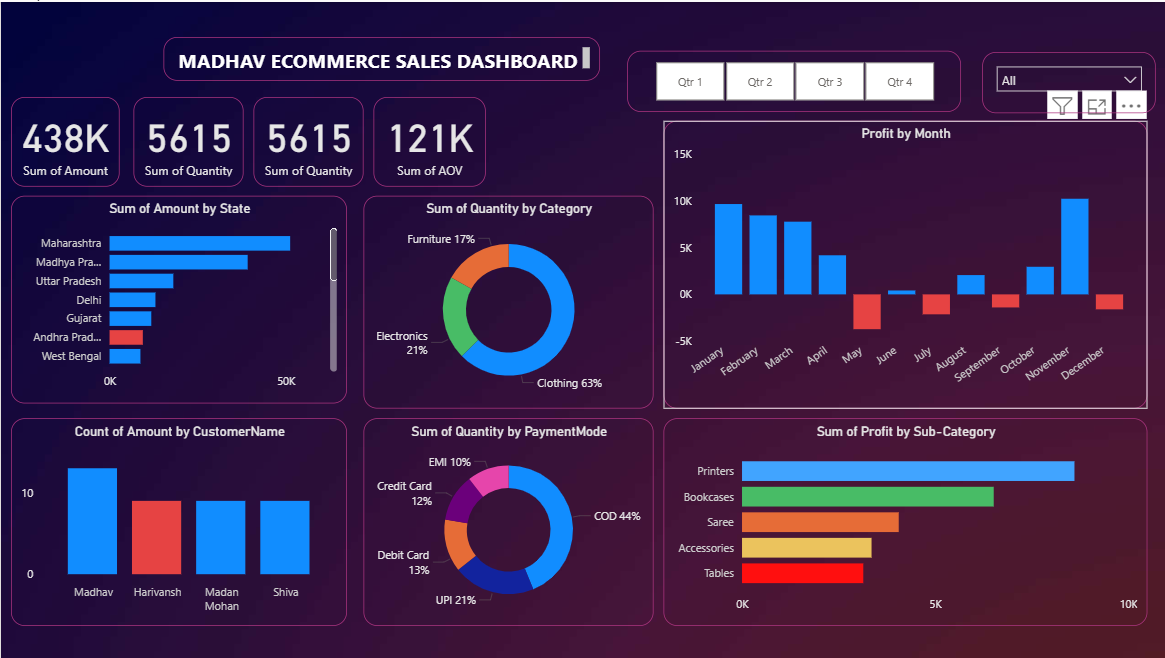

This screenshot's page, from the dashboard's own definition file:
{"tool":"powerbi","page":{"name":"Page 1","canvas":[1280,720],"ordinal":0},"visuals":[{"type":"textbox","box":[178.4,38.4,478.9,48],"z":0},{"type":"columnChart","title":"Profit by Month","fields":{"Y":["Sum(Details.Profit)"],"Category":["Orders.NewOrderDate.Variation.Date Hierarchy.Month"]},"box":[727.3,130.4,531,315.6],"z":1000},{"type":"barChart","fields":{"Category":["Details.Sub-Category"],"Y":["Sum(Details.Profit)"]},"box":[727.3,456.9,531,227.8],"z":2000},{"type":"donutChart","fields":{"Category":["Details.Category"],"Y":["Sum(Details.Quantity)"]},"box":[397.9,212.7,318.4,233.3],"z":3000},{"type":"donutChart","fields":{"Category":["Details.PaymentMode"],"Y":["Sum(Details.Quantity)"]},"box":[397.9,456.9,318.4,227.8],"z":4000},{"type":"card","fields":{"Values":["Sum(Details.Amount)"]},"box":[11,104.3,119.4,98.8],"z":5000},{"type":"card","fields":{"Values":["Sum(Details.Quantity)"]},"box":[145.5,104.3,120.8,98.8],"z":6000},{"type":"card","fields":{"Values":["Sum(Details.Quantity)"]},"box":[277.2,104.3,120.8,98.8],"z":7000},{"type":"card","fields":{"Values":["Sum(Details.AOV)"]},"box":[408.9,104.3,123.5,98.8],"z":8000},{"type":"barChart","fields":{"Category":["Orders.State"],"Y":["Sum(Details.Amount)"]},"box":[11,212.7,369.1,227.8],"z":9000},{"type":"columnChart","fields":{"Category":["Orders.CustomerName"],"Y":["CountNonNull(Details.Amount)"]},"box":[11,457,369,228],"z":10000},{"type":"slicer","fields":{"Values":["Orders.Order Date.Variation.Date Hierarchy.Quarter"]},"box":[687.5,53.5,366.4,67.2],"z":11000},{"type":"slicer","fields":{"Values":["Orders.State"]},"box":[1077.2,54.9,190.7,67.2],"z":12000}]}

Visuals, with their boxes in screenshot pixels (x1, y1, x2, y2), scaled from the page's 1280x720 canvas onto the 1165x658 screenshot:
textbox: (x1=162, y1=35, x2=598, y2=79)
"Profit by Month" columnChart: (x1=662, y1=119, x2=1145, y2=408)
barChart - Details.Sub-Category x Sum(Details.Profit): (x1=662, y1=418, x2=1145, y2=626)
donutChart - Details.Category x Sum(Details.Quantity): (x1=362, y1=194, x2=652, y2=408)
donutChart - Details.PaymentMode x Sum(Details.Quantity): (x1=362, y1=418, x2=652, y2=626)
card - Sum(Details.Amount): (x1=10, y1=95, x2=119, y2=186)
card - Sum(Details.Quantity): (x1=132, y1=95, x2=242, y2=186)
card - Sum(Details.Quantity): (x1=252, y1=95, x2=362, y2=186)
card - Sum(Details.AOV): (x1=372, y1=95, x2=485, y2=186)
barChart - Orders.State x Sum(Details.Amount): (x1=10, y1=194, x2=346, y2=403)
columnChart - Orders.CustomerName x CountNonNull(Details.Amount): (x1=10, y1=418, x2=346, y2=626)
slicer - Orders.Order Date.Variation.Date Hierarchy.Quarter: (x1=626, y1=49, x2=959, y2=110)
slicer - Orders.State: (x1=980, y1=50, x2=1154, y2=112)
